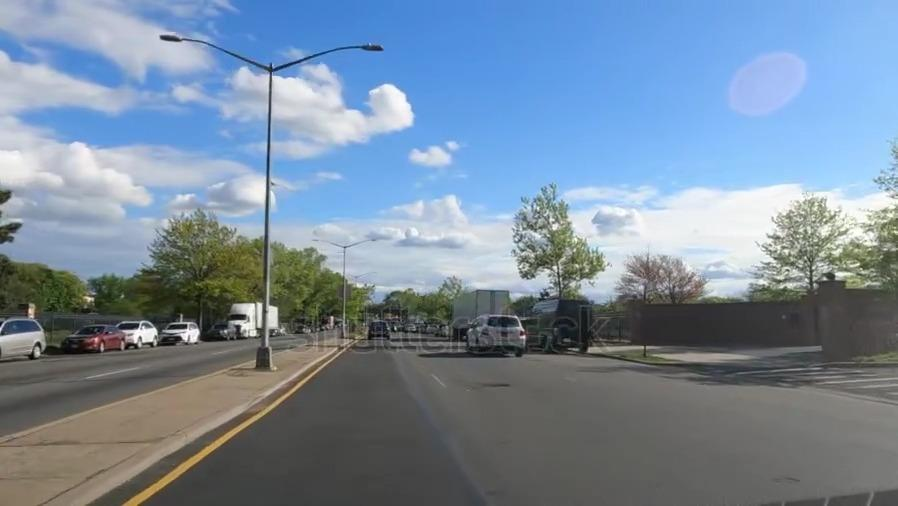car: (464, 314, 525, 357), (1, 317, 47, 361), (61, 324, 125, 354), (120, 318, 157, 349), (159, 322, 198, 347), (205, 322, 238, 342), (366, 320, 391, 341)
pedestrian: (710, 360, 898, 397)
pothole: (480, 378, 513, 393)
truck: (448, 292, 510, 336), (229, 301, 279, 340)
van: (525, 301, 592, 353)
